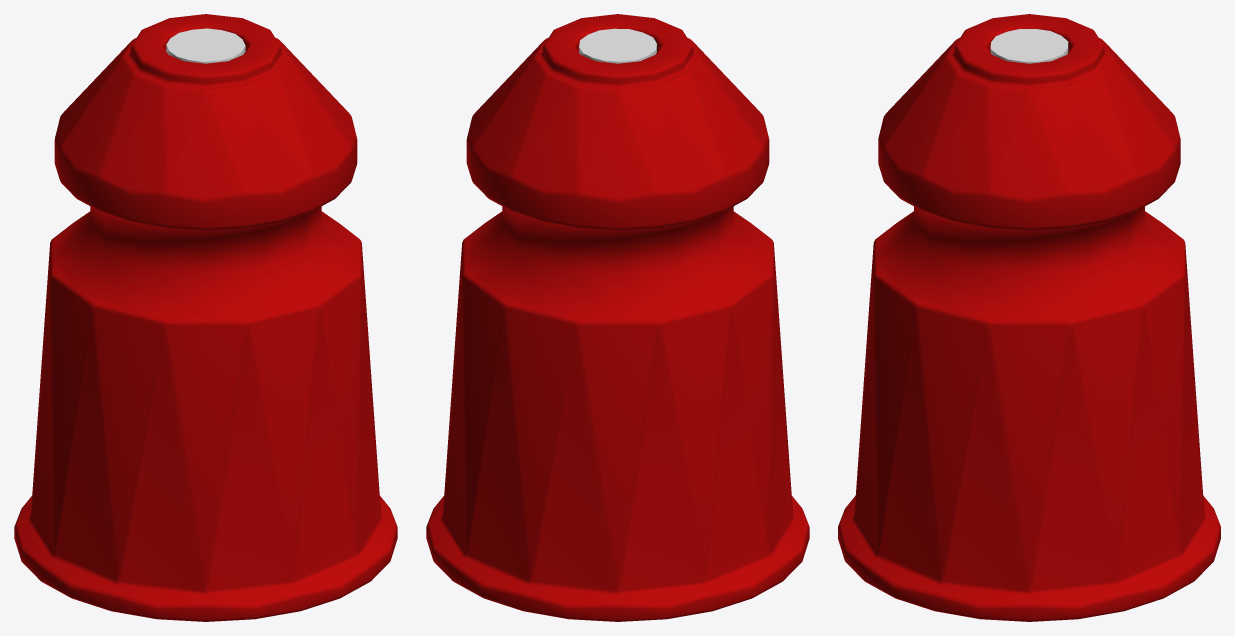
File: Model - Plastic - Faceted - 1in.fbx
3 views of the same model, side by side, from view 1: azimuth 30°, elevation 25°; view 2: azimuth 150°, elevation 25°; view 3: azimuth 270°, elevation 25° (orthographic).
Parts seen in each view (by area): view 1: Post - Plastic - Faceted - 1"; view 2: Post - Plastic - Faceted - 1"; view 3: Post - Plastic - Faceted - 1".
Part boxes in pixels (box(x1,y1,x2,y2)): Post - Plastic - Faceted - 1": box(14, 14, 397, 621); Post - Plastic - Faceted - 1": box(426, 14, 809, 621); Post - Plastic - Faceted - 1": box(838, 14, 1220, 621).
Bounding box in the file's own units: 1.77 × 2.54 × 1.77.
